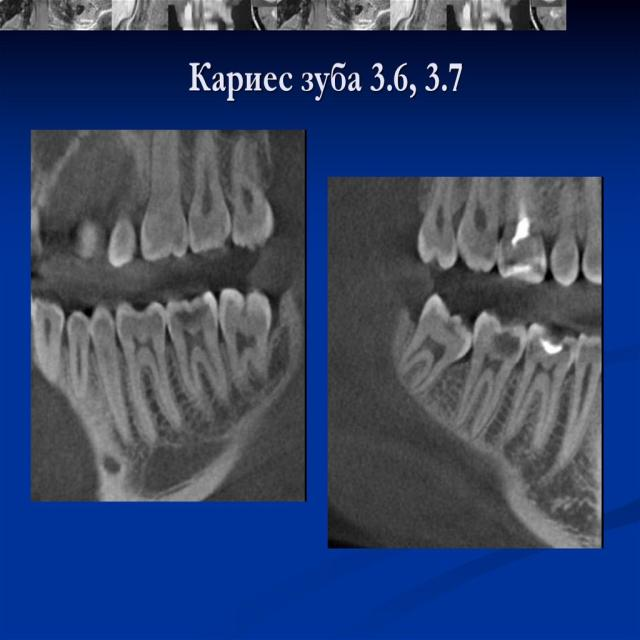Caries: (167, 290, 220, 433), (471, 313, 524, 447)
